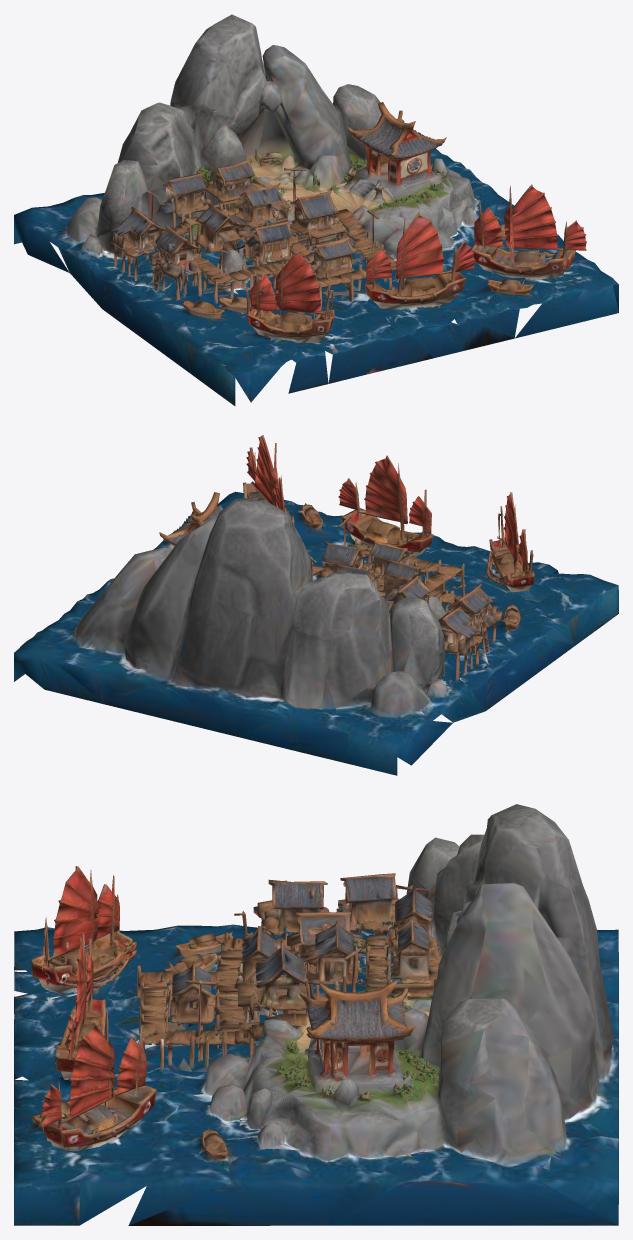
Rendered from m_cheungchau_animated.glb.
3 renders of one model, top to bottom at view 1: azimuth 30°, elevation 25°; view 2: azimuth 150°, elevation 25°; view 3: azimuth 270°, elevation 25°, orthographic. The views are drawn at different scales.
Visible parts, largest first — view 1: m_cheungchau_Living_Scenery; view 2: m_cheungchau_Living_Scenery; view 3: m_cheungchau_Living_Scenery.
Part boxes in pixels (box(x1,y1,x2,y2)): m_cheungchau_Living_Scenery: box(14, 14, 618, 405); m_cheungchau_Living_Scenery: box(14, 435, 618, 775); m_cheungchau_Living_Scenery: box(14, 804, 618, 1225).
Bounding box in the file's own units: 0.9773 × 0.5001 × 0.9776.
Materials: 1 (1 with a texture image).
